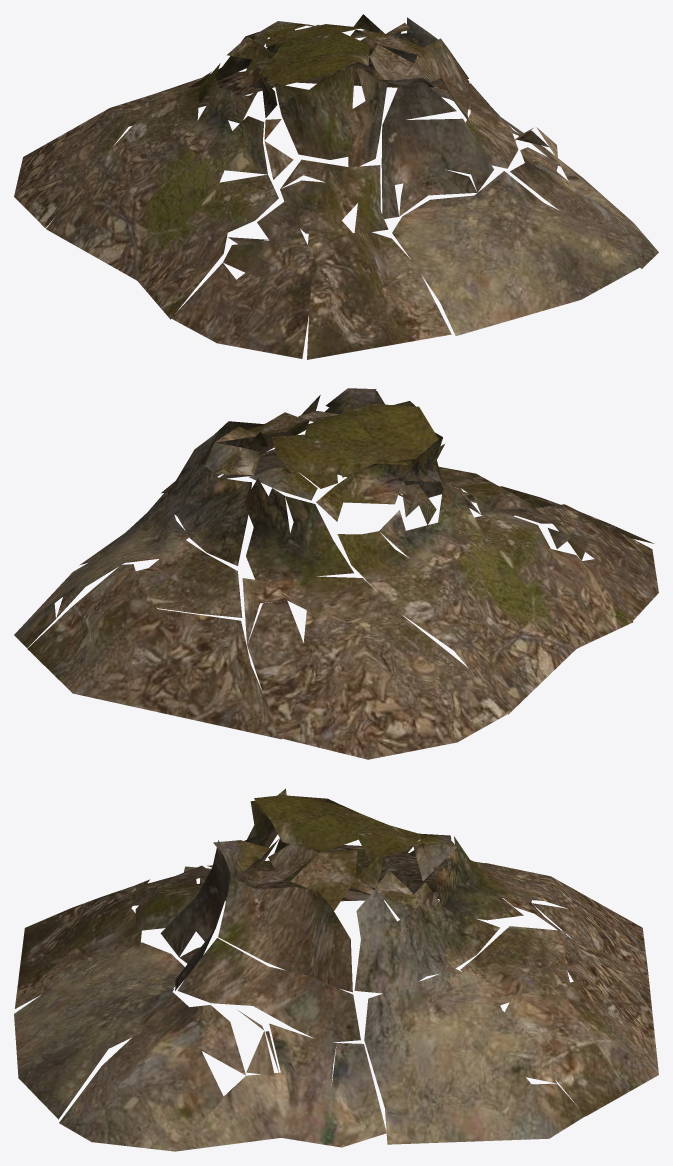
File: tree_stump_01.glb
The picture shows the model from 3 angles, top to bottom: view 1: azimuth 30°, elevation 25°; view 2: azimuth 150°, elevation 25°; view 3: azimuth 270°, elevation 25°; orthographic projection. The views are drawn at different scales.
Parts seen in each view (by area): view 1: tree_stump_01; view 2: tree_stump_01; view 3: tree_stump_01.
Part boxes in pixels (x1,y1,x2,y2): tree_stump_01: [14, 14, 658, 359]; tree_stump_01: [14, 388, 658, 759]; tree_stump_01: [14, 788, 658, 1151].
Bounding box in the file's own units: 1.44 × 0.57 × 1.59.
Materials: 1 (1 with a texture image).
